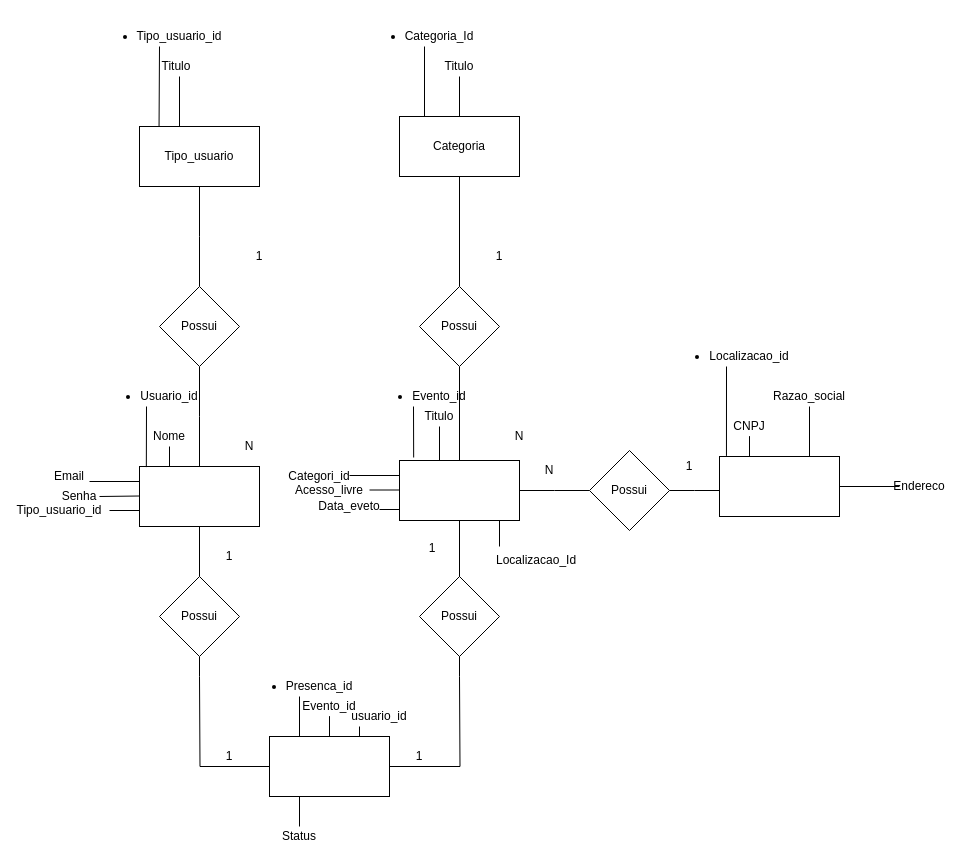
Some shapes in this 962 by 863 pixel diagram are drawn without their labels. The centre of each missing label's shape, as x and y in pixels:
Evento: the point at 459,490
Localizacao: the point at 779,486
Presenca: the point at 329,766
usuario: the point at 199,496
